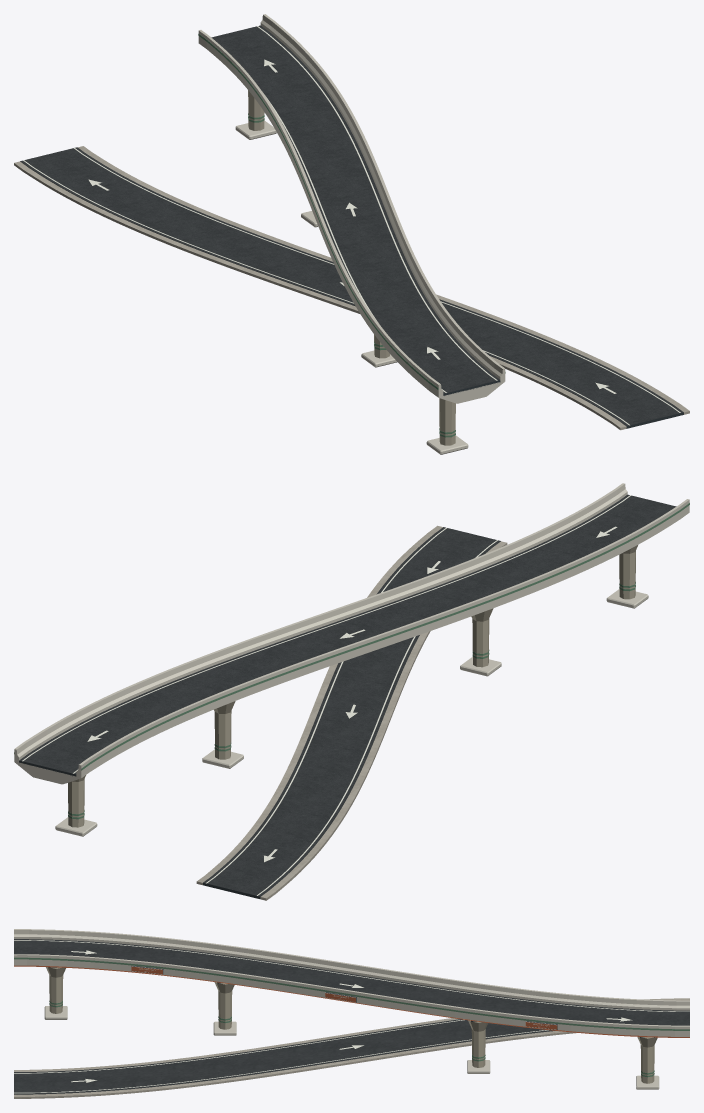
3 renders of one model, top to bottom at view 1: azimuth 30°, elevation 25°; view 2: azimuth 150°, elevation 25°; view 3: azimuth 270°, elevation 25°, orthographic. The views are drawn at different scales.
Parts seen in each view (by area): view 1: Flyover wearing course, Surface collector, Bridge containment kerbs, Gravel margins, Continuous edge markings, Octagonal columns, Pile caps, Ceramic coping band; view 2: Flyover wearing course, Surface collector, Bridge containment kerbs, Gravel margins, Octagonal columns, Continuous edge markings, Ceramic coping band, Pile caps; view 3: Bridge containment kerbs, Surface collector, Flyover wearing course, Gravel margins, Continuous edge markings, Octagonal columns, Ceramic coping band, Cast spine and cantilever wings, Pile caps, Flared capitals, Span name, Lane arrows.
Part boxes in pixels (left/top/right/bottom): Flyover wearing course: left=211, top=25, right=500, bottom=395; Surface collector: left=20, top=147, right=683, bottom=428; Bridge containment kerbs: left=198, top=14, right=505, bottom=397; Gravel margins: left=14, top=146, right=689, bottom=430; Continuous edge markings: left=23, top=26, right=680, bottom=425; Octagonal columns: left=248, top=90, right=455, bottom=445; Pile caps: left=235, top=120, right=468, bottom=454; Ceramic coping band: left=198, top=33, right=505, bottom=389; Flyover wearing course: left=19, top=494, right=676, bottom=776; Surface collector: left=203, top=527, right=500, bottom=898; Bridge containment kerbs: left=14, top=483, right=689, bottom=778; Gravel margins: left=196, top=525, right=507, bottom=900; Octagonal columns: left=68, top=551, right=635, bottom=827; Continuous edge markings: left=22, top=495, right=630, bottom=895; Ceramic coping band: left=14, top=503, right=689, bottom=770; Pile caps: left=55, top=589, right=648, bottom=836; Bridge containment kerbs: left=14, top=929, right=689, bottom=1036; Surface collector: left=14, top=1019, right=554, bottom=1094; Flyover wearing course: left=14, top=939, right=689, bottom=1025; Gravel margins: left=14, top=998, right=689, bottom=1098; Continuous edge markings: left=14, top=940, right=689, bottom=1093; Octagonal columns: left=49, top=975, right=654, bottom=1083; Ceramic coping band: left=14, top=957, right=689, bottom=1030; Cast spine and cantilever wings: left=14, top=965, right=689, bottom=1037; Pile caps: left=44, top=1006, right=659, bottom=1089; Flared capitals: left=46, top=967, right=657, bottom=1047; Span name: left=131, top=966, right=557, bottom=1029; Lane arrows: left=71, top=950, right=632, bottom=1082.
Size of the model in its own units: 22.07 by 7.5 by 64.
Materials: 10 (2 with a texture image).
